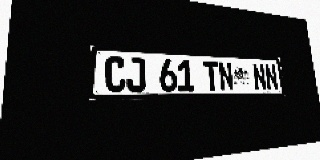1: (176, 59, 194, 92)
6: (159, 59, 177, 92)
C: (105, 56, 126, 92)
J: (126, 57, 146, 92)
N: (218, 61, 234, 91), (252, 63, 267, 91), (264, 64, 279, 91)
T: (203, 61, 220, 91)
